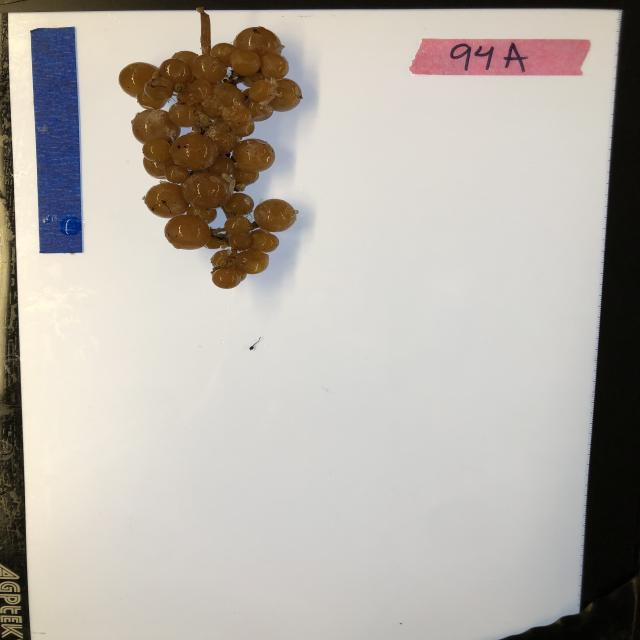grape_cluster: (120, 8, 302, 290)
index: (408, 36, 592, 76)
measure_label: (27, 25, 84, 254)
